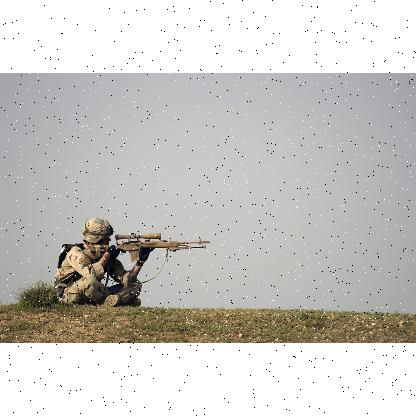gun: (82, 231, 209, 261)
